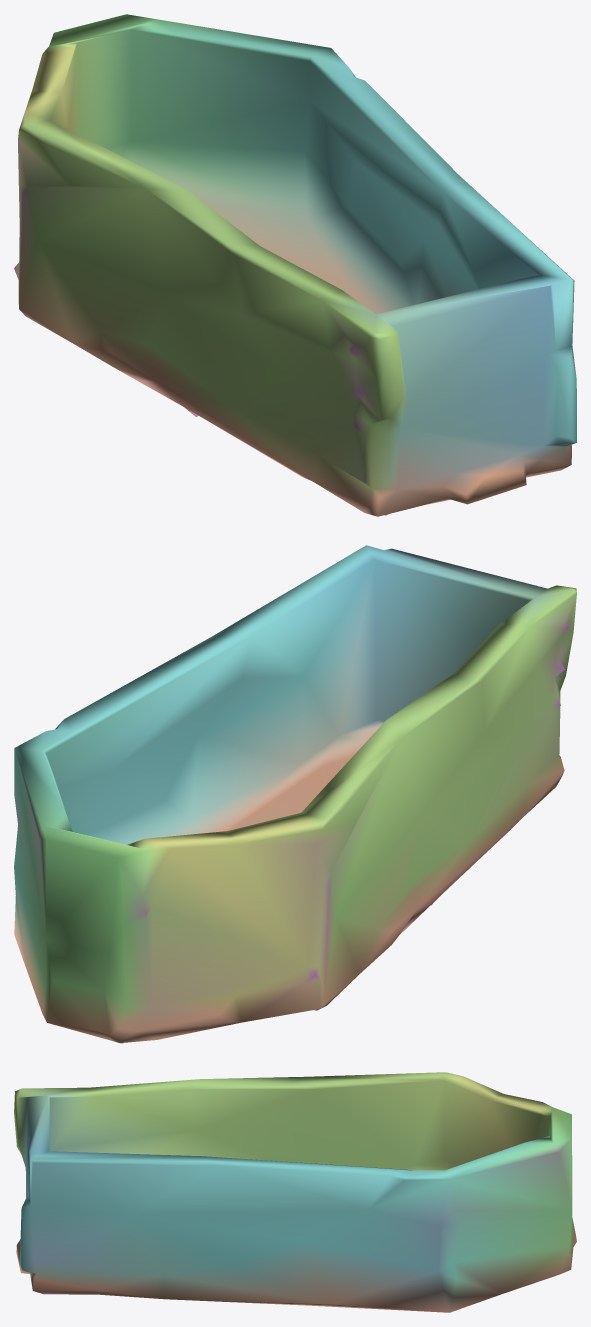
The model's file is Halloween_Coffin_Base_01.fbx.
The picture shows the model from 3 angles, top to bottom: view 1: azimuth 30°, elevation 25°; view 2: azimuth 150°, elevation 25°; view 3: azimuth 270°, elevation 25°; orthographic projection. The views are drawn at different scales.
Parts seen in each view (by area): view 1: Halloween_Coffin_Base_01; view 2: Halloween_Coffin_Base_01; view 3: Halloween_Coffin_Base_01.
Part boxes in pixels (box(x1,y1,x2,y2)): Halloween_Coffin_Base_01: box(14, 14, 576, 516); Halloween_Coffin_Base_01: box(14, 545, 576, 1043); Halloween_Coffin_Base_01: box(14, 1072, 576, 1312).
Size of the model in its own units: 0.9394 by 0.5797 by 2.07.
